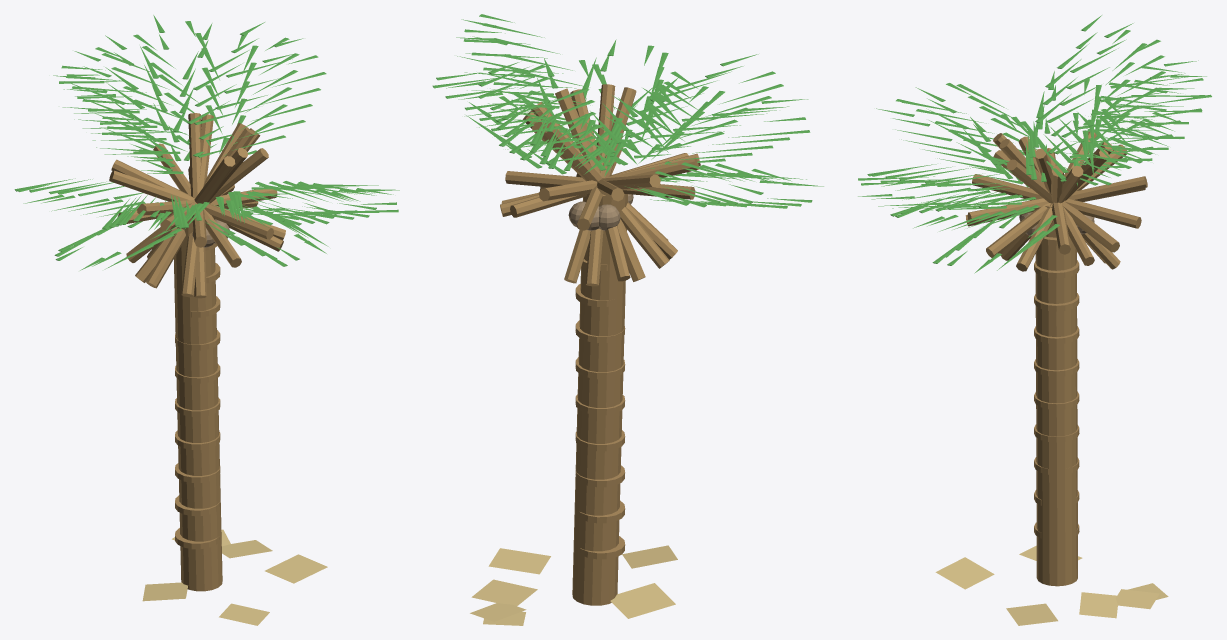
Rendered from palm.glb.
The picture shows the model from 3 angles, left to right: view 1: azimuth 30°, elevation 25°; view 2: azimuth 150°, elevation 25°; view 3: azimuth 270°, elevation 25°; orthographic projection. The views are drawn at different scales.
Visible parts, largest first — view 1: PalmMature_trunk, PalmMature_leaf_stem_8, PalmMature_leaf_stem_7, PalmMature_leaf_stem_6, PalmMature_leaf_stem_9, PalmMature_leaf_stem_3, PalmMature_leaf_stem_12, PalmMature_leaf_stem_11, PalmMature_debris_2, PalmMature_leaf_stem_10, PalmMature_debris_3, PalmMature_leaf_stem_1 (+5 smaller); view 2: PalmMature_trunk, PalmMature_leaf_stem_13, PalmMature_leaf_stem_2, PalmMature_leaf_stem_4, PalmMature_debris_3, PalmMature_leaf_stem_1, PalmMature_leaf_stem_5, PalmMature_leaf_stem_3, PalmMature_debris_2, PalmMature_debris_6, PalmMature_leaf_stem_16, PalmMature_leaf_stem_14 (+7 smaller); view 3: PalmMature_trunk, PalmMature_leaf_stem_16, PalmMature_leaf_stem_11, PalmMature_leaf_stem_9, PalmMature_debris_5, PalmMature_leaf_stem_15, PalmMature_debris_6, PalmMature_leaf_stem_12, PalmMature_leaf_stem_14, PalmMature_debris_2, PalmMature_leaf_stem_10, PalmMature_leaf_stem_13 (+3 smaller).
Boxes of the visible parts, x1=… form: PalmMature_trunk: x1=174, y1=203, x2=222, y2=591; PalmMature_leaf_stem_8: x1=188, y1=113, x2=206, y2=298; PalmMature_leaf_stem_7: x1=181, y1=114, x2=213, y2=297; PalmMature_leaf_stem_6: x1=146, y1=123, x2=248, y2=288; PalmMature_leaf_stem_9: x1=153, y1=143, x2=241, y2=267; PalmMature_leaf_stem_3: x1=126, y1=148, x2=268, y2=262; PalmMature_leaf_stem_12: x1=109, y1=170, x2=285, y2=240; PalmMature_leaf_stem_11: x1=111, y1=159, x2=283, y2=251; PalmMature_debris_2: x1=265, y1=554, x2=327, y2=583; PalmMature_leaf_stem_10: x1=204, y1=203, x2=273, y2=239; PalmMature_debris_3: x1=142, y1=582, x2=187, y2=601; PalmMature_leaf_stem_1: x1=194, y1=156, x2=235, y2=203; PalmMature_trunk: x1=572, y1=193, x2=627, y2=605; PalmMature_leaf_stem_13: x1=505, y1=171, x2=695, y2=199; PalmMature_leaf_stem_2: x1=585, y1=84, x2=615, y2=286; PalmMature_leaf_stem_4: x1=555, y1=88, x2=645, y2=281; PalmMature_debris_3: x1=610, y1=583, x2=675, y2=618; PalmMature_leaf_stem_1: x1=564, y1=87, x2=636, y2=283; PalmMature_leaf_stem_5: x1=531, y1=102, x2=669, y2=268; PalmMature_leaf_stem_3: x1=570, y1=89, x2=630, y2=281; PalmMature_debris_2: x1=488, y1=548, x2=550, y2=574; PalmMature_debris_6: x1=471, y1=579, x2=537, y2=606; PalmMature_leaf_stem_16: x1=510, y1=153, x2=688, y2=217; PalmMature_leaf_stem_14: x1=501, y1=157, x2=698, y2=203; PalmMature_trunk: x1=1035, y1=205, x2=1077, y2=586; PalmMature_leaf_stem_16: x1=972, y1=174, x2=1141, y2=228; PalmMature_leaf_stem_11: x1=986, y1=144, x2=1127, y2=257; PalmMature_leaf_stem_9: x1=965, y1=176, x2=1147, y2=226; PalmMature_debris_5: x1=935, y1=557, x2=994, y2=589; PalmMature_leaf_stem_15: x1=993, y1=150, x2=1119, y2=252; PalmMature_debris_6: x1=1079, y1=592, x2=1117, y2=618; PalmMature_leaf_stem_12: x1=1016, y1=131, x2=1096, y2=271; PalmMature_leaf_stem_14: x1=1018, y1=136, x2=1094, y2=265; PalmMature_debris_2: x1=1006, y1=603, x2=1057, y2=625; PalmMature_leaf_stem_10: x1=967, y1=188, x2=1145, y2=223; PalmMature_leaf_stem_13: x1=1047, y1=148, x2=1070, y2=254.
Size of the model in its own units: 3.78 by 5.49 by 3.46.
